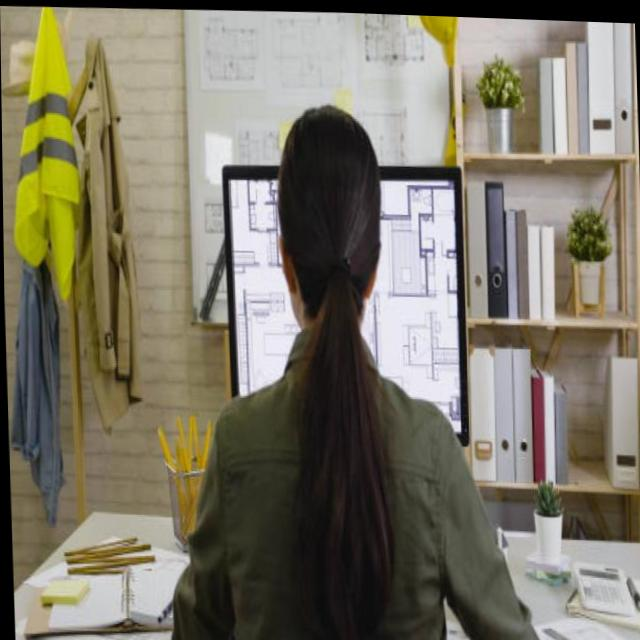no helmet: (259, 84, 394, 348)
